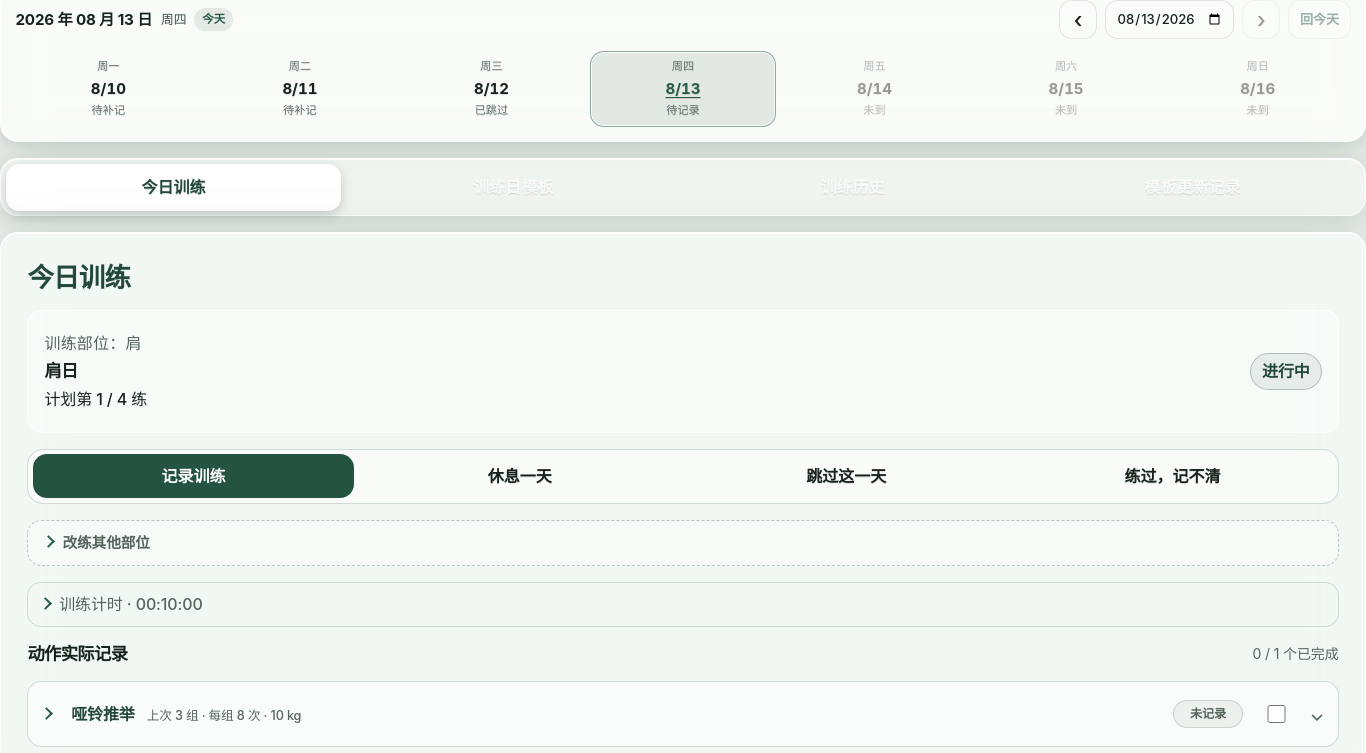
Test case: ManualExerciseWorkspace › finishes training only after explicit recording and does not navigate beyond today
Click the checkbox named "哑铃推举完成情况" at (1276, 714), box [1267,705,1286,723]
(page scrolled)
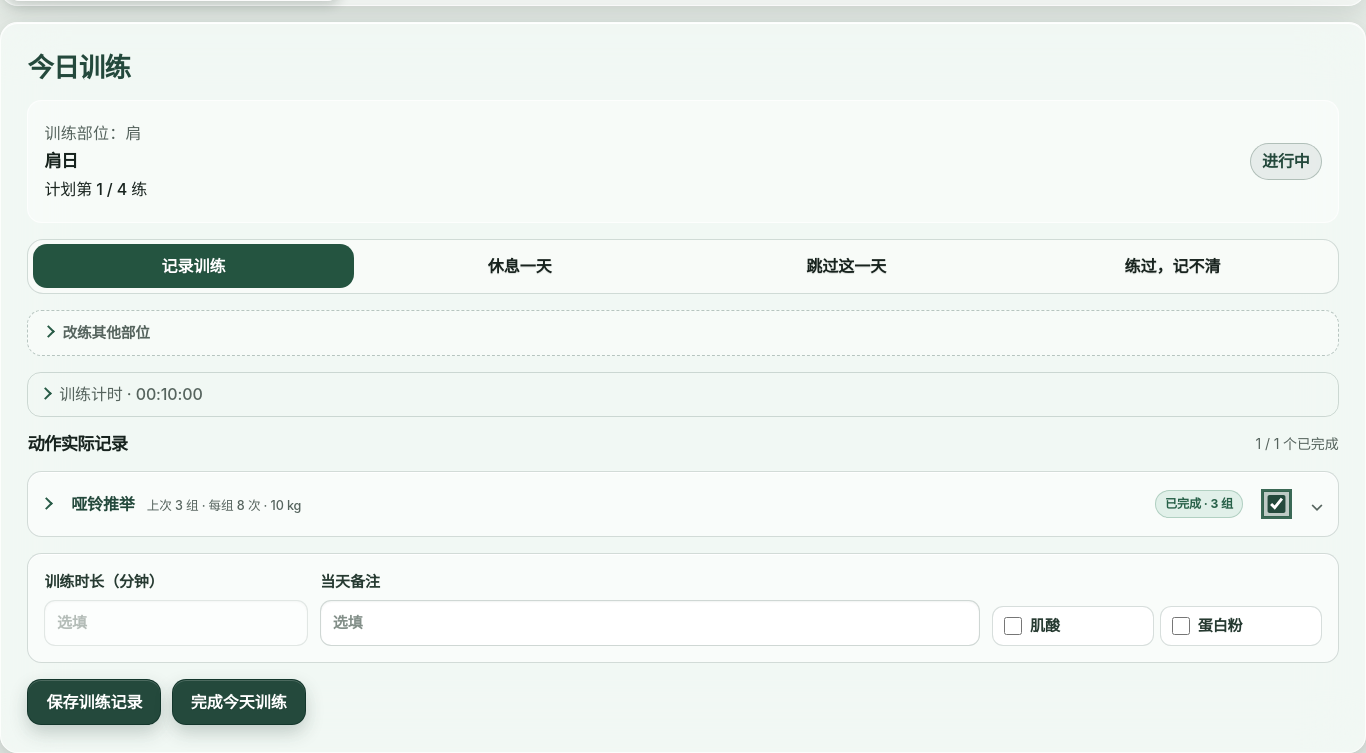
expect the button "完成今天训练" is enabled: met
Click the button "完成今天训练" at (239, 702), box [172,679,306,725]
(page scrolled)
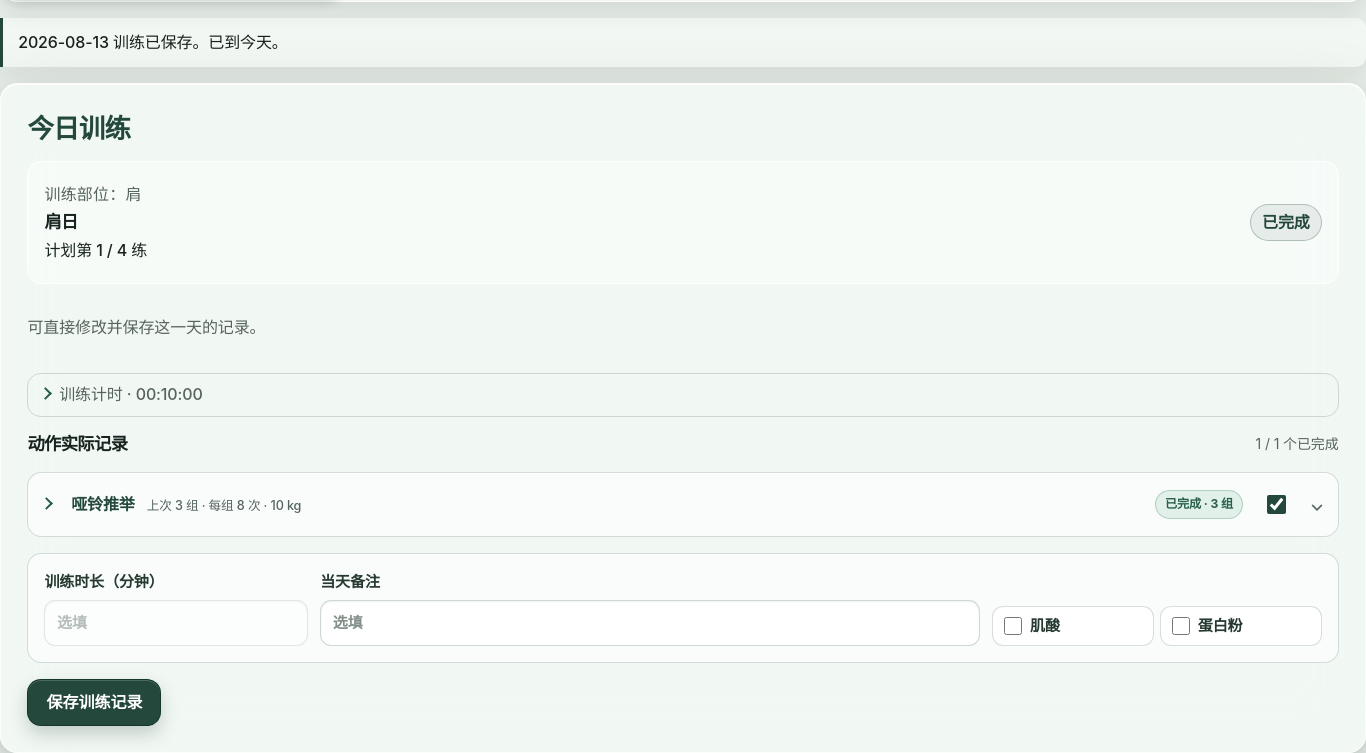
expect the text "2026-08-13 训练已保存。已到今天。" is shown: met, box [0,18,1365,67]
